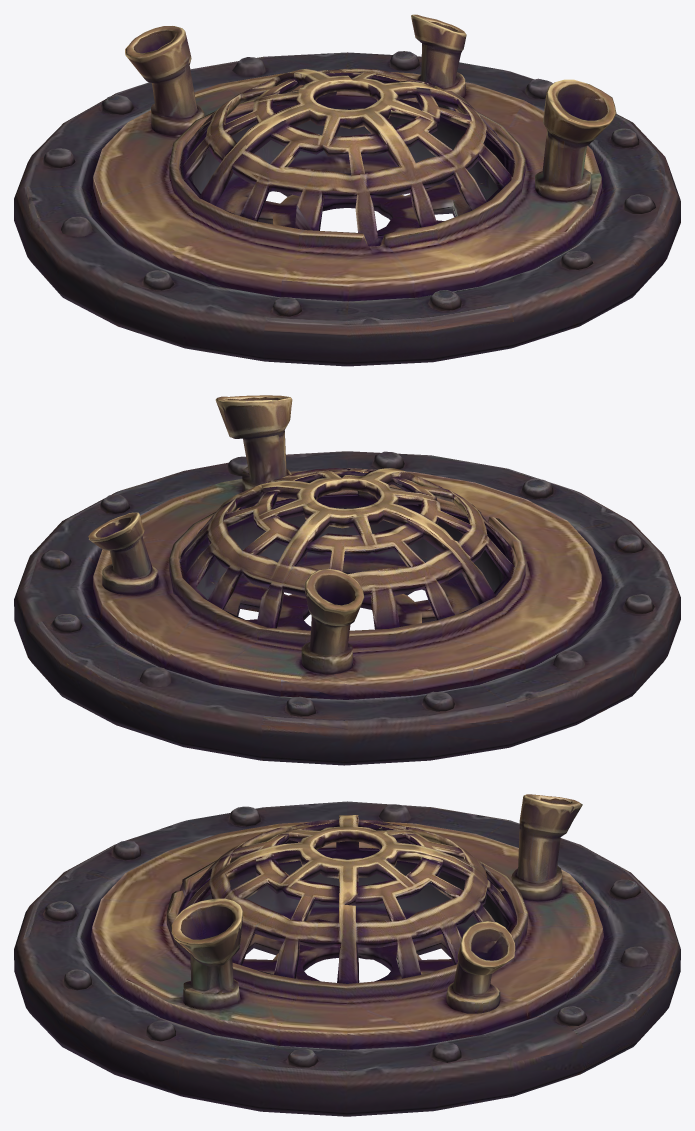
The model's file is p_c_vent.glb.
3 views of the same model, one above another, from view 1: azimuth 30°, elevation 25°; view 2: azimuth 150°, elevation 25°; view 3: azimuth 270°, elevation 25° (orthographic).
Visible parts, largest first — view 1: Mesh_0; view 2: Mesh_0; view 3: Mesh_0.
Part boxes in pixels (x1,y1,x2,y2): Mesh_0: (14,14,680,366); Mesh_0: (14,395,680,765); Mesh_0: (14,794,680,1116).
Size of the model in its own units: 1 by 0.246 by 1.
1 material, 1 textured.
